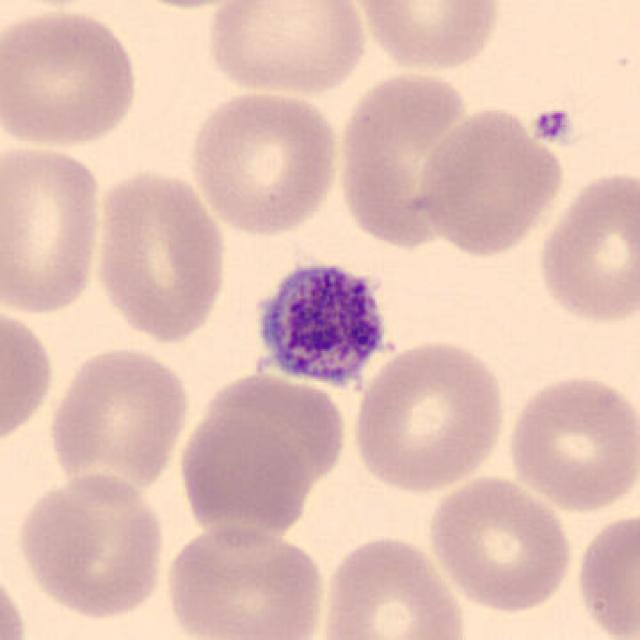platelets: (256, 258, 390, 388), (531, 104, 582, 150)
rbc: (190, 91, 337, 258), (16, 470, 174, 625), (344, 69, 469, 255), (97, 175, 226, 348), (354, 343, 504, 491), (51, 346, 190, 495), (0, 9, 146, 146), (428, 475, 573, 612), (0, 138, 108, 316), (172, 521, 327, 640), (509, 374, 640, 512), (319, 530, 480, 640), (178, 409, 306, 542), (213, 372, 353, 491), (205, 0, 372, 95), (422, 113, 534, 250), (544, 171, 640, 317), (354, 0, 525, 81), (575, 518, 640, 640), (0, 314, 52, 446), (139, 0, 219, 28), (0, 588, 32, 640)
